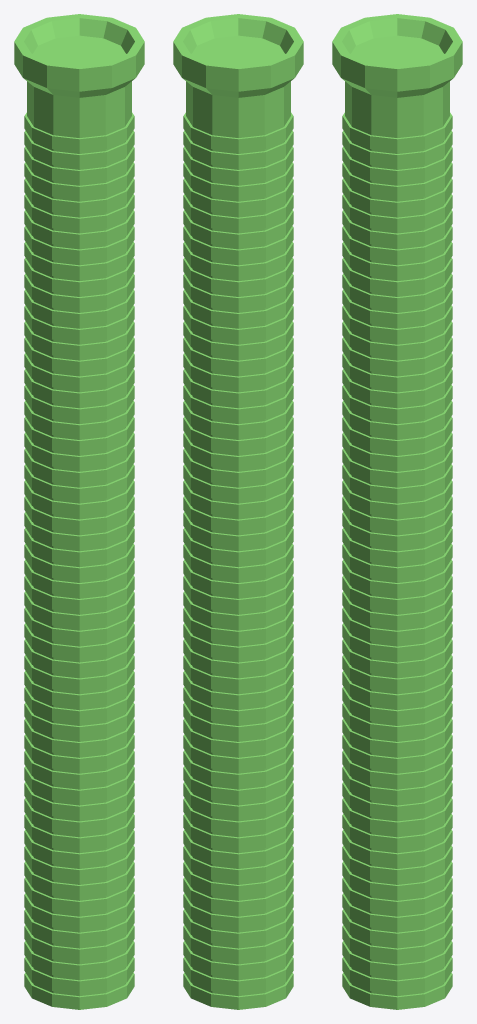
Rendered from WhistlingTube.fbx.
3 views of the same model, side by side, from view 1: azimuth 90°, elevation 25°; view 2: azimuth 150°, elevation 25°; view 3: azimuth 270°, elevation 25° (orthographic).
Parts seen in each view (by area): view 1: Cylinder; view 2: Cylinder; view 3: Cylinder.
Part boxes in pixels (box(x1,y1,x2,y2)): Cylinder: box(14, 14, 144, 1009); Cylinder: box(173, 14, 303, 1009); Cylinder: box(332, 14, 462, 1009).
Size of the model in its own units: 38.02 by 304 by 38.02.
